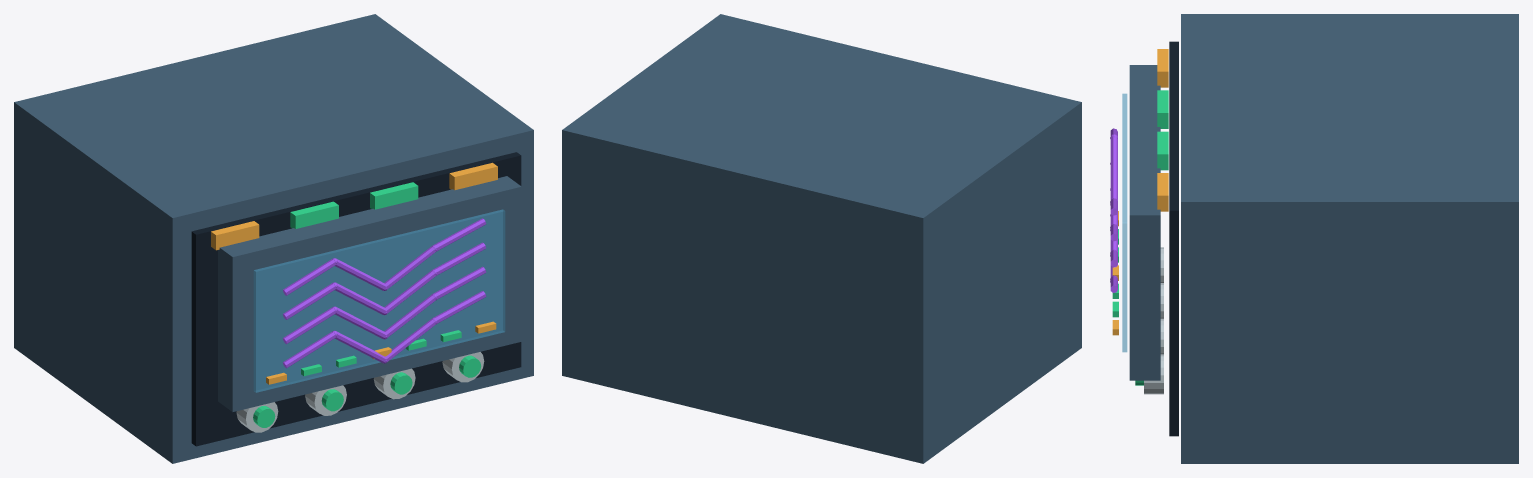
The model's file is 28_L81_HolographicCheckpointJournal.fbx.
3 renders of one model, left to right at view 1: azimuth 30°, elevation 25°; view 2: azimuth 150°, elevation 25°; view 3: azimuth 270°, elevation 25°, orthographic. The views are drawn at different scales.
Parts seen in each view (by area): view 1: HolographicCheckpointJournal; view 2: HolographicCheckpointJournal; view 3: HolographicCheckpointJournal.
Boxes of the visible parts, x1,y1,x2,y2 form: HolographicCheckpointJournal: (14, 14, 533, 463); HolographicCheckpointJournal: (562, 14, 1081, 463); HolographicCheckpointJournal: (1110, 14, 1518, 463).
Size of the model in its own units: 100 by 65 by 91.9.
